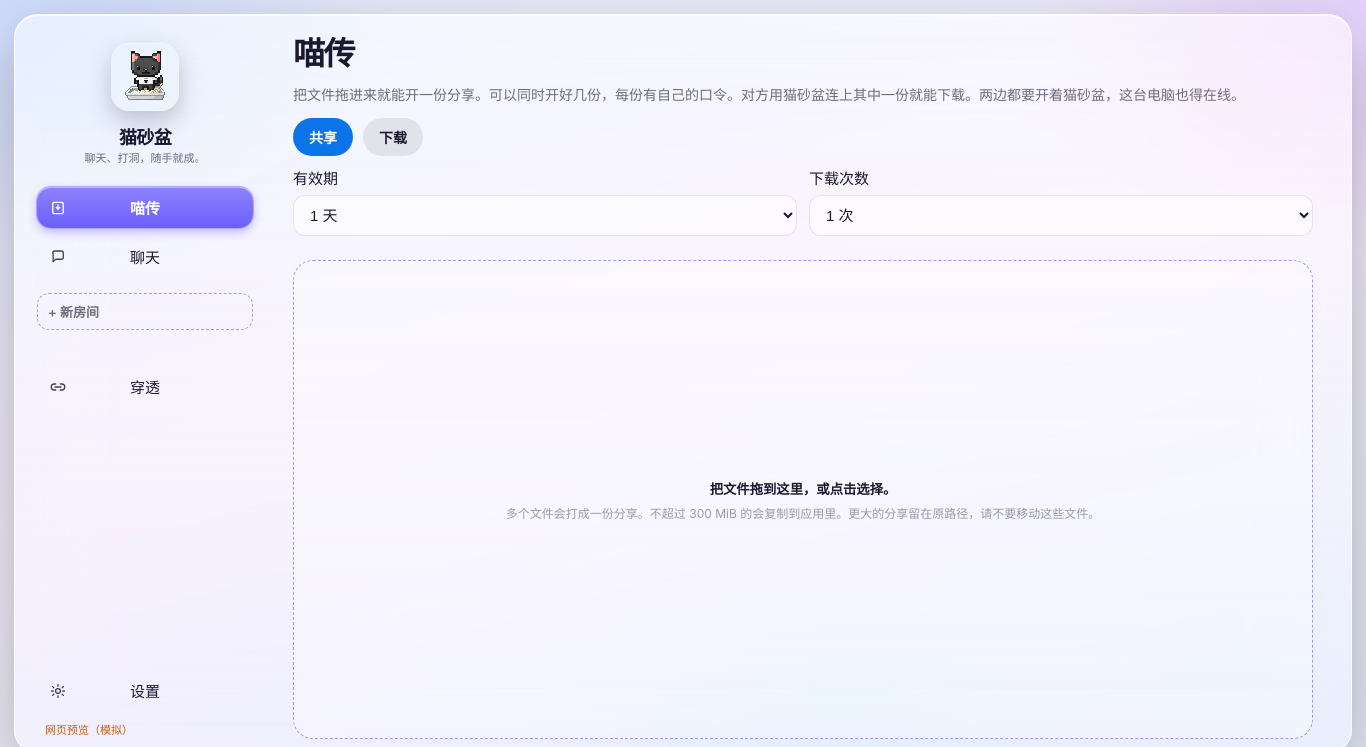
Test case: local nickname › shows the Chinese label and helper
The image size is (1366, 747).
Click the button with class "nav-btn" showing "聊天": (145, 256) [37, 236, 253, 277]
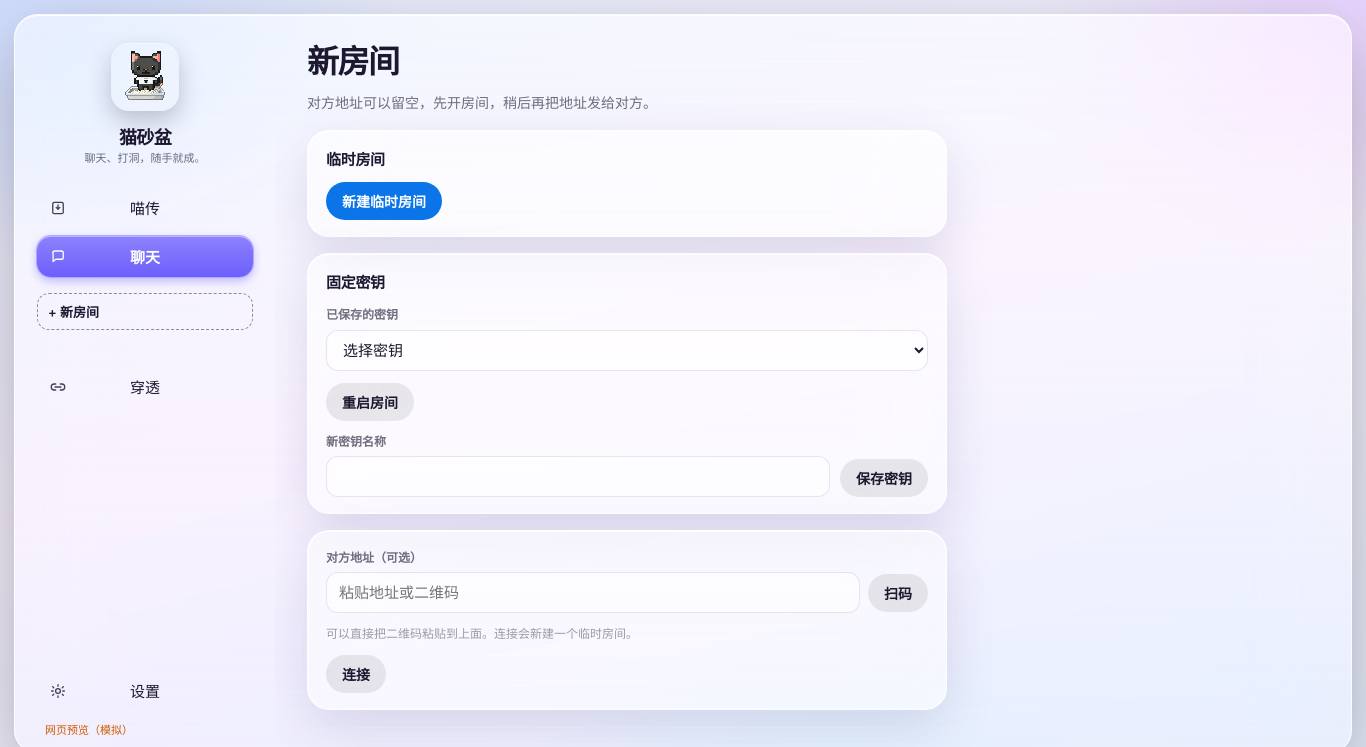
Click the button "设置": (145, 690) [37, 670, 253, 711]
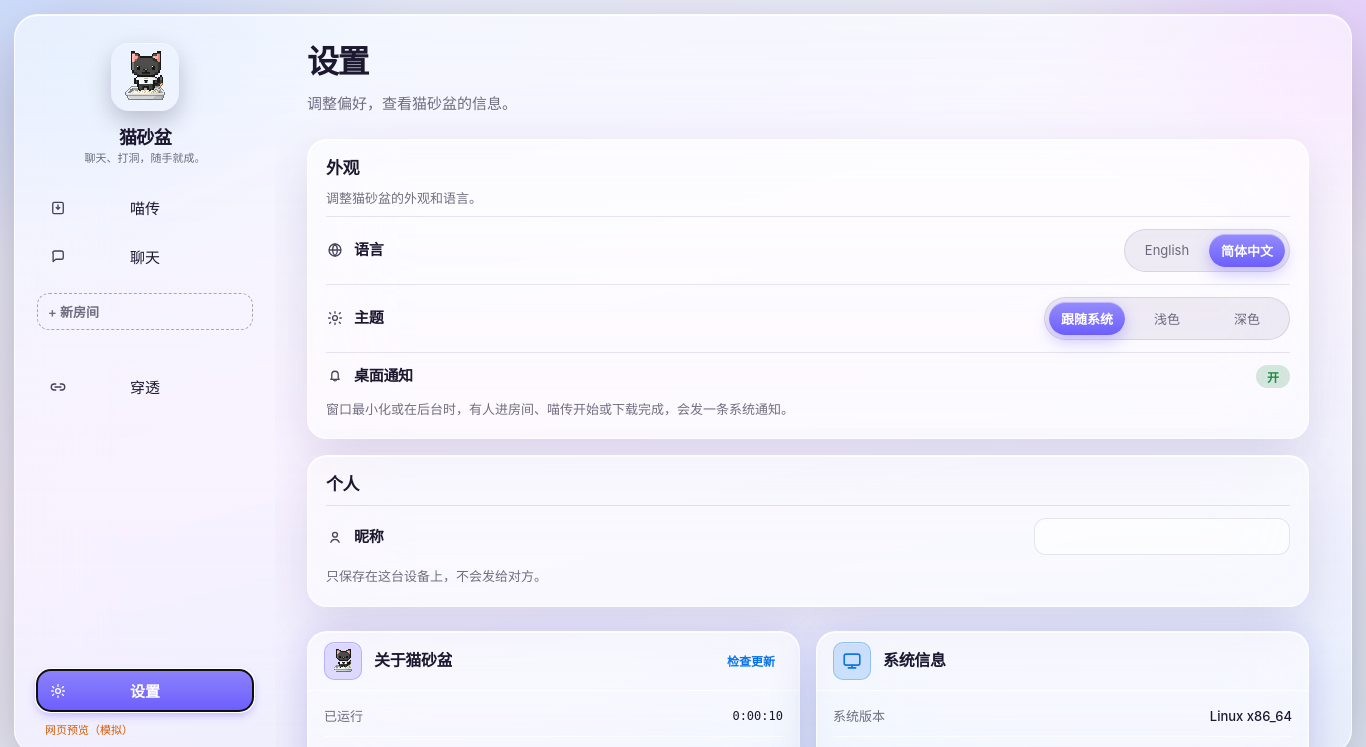
Expected: the field labelled "昵称" is shown, [1034, 518, 1290, 555]
Expected: the heading "个人" is shown, [326, 474, 359, 494]
Expected: the text "只保存在这台设备上，不会发给对方。" is shown, [326, 568, 547, 584]
